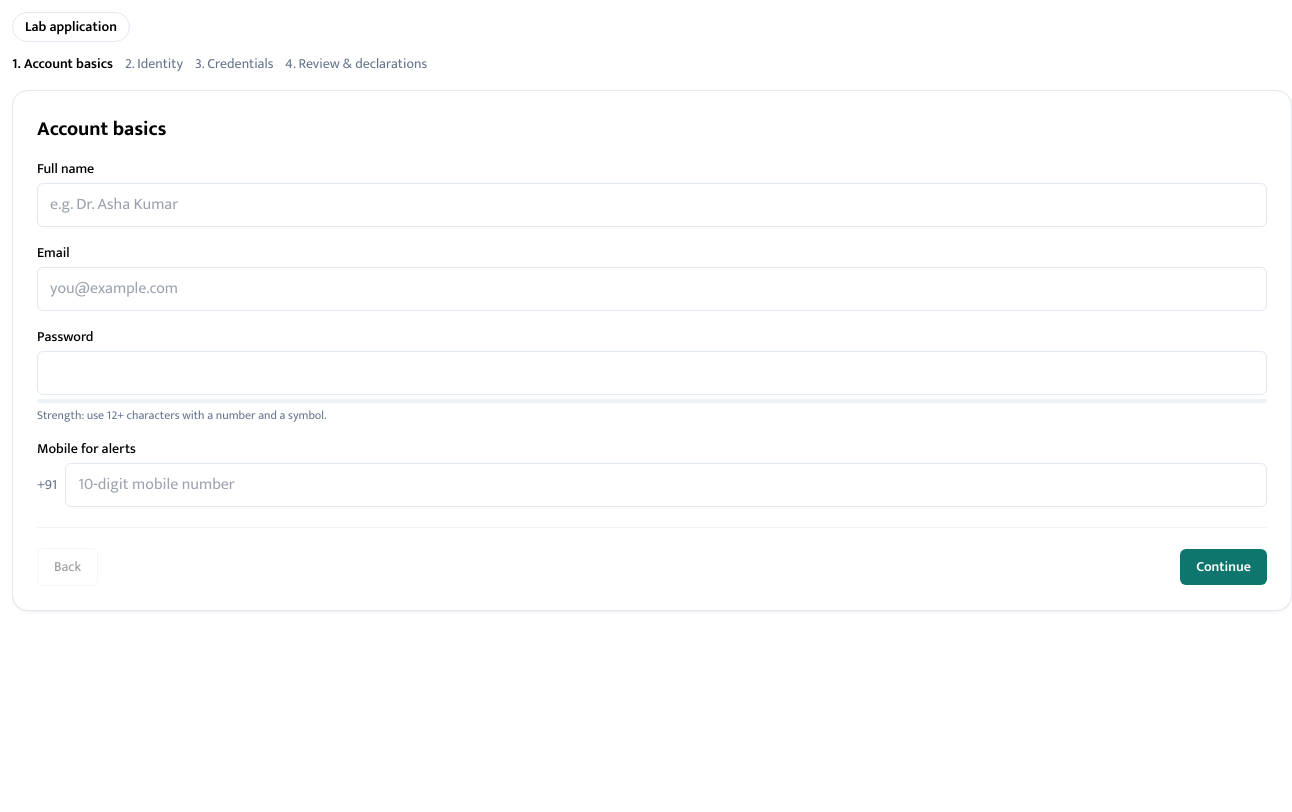
Test case: type preset carried from the CTA query param › pre-selects lab and shows business identity instead of doctor fields
The image size is (1292, 812).
In the field with test id "pr-fullname": (652, 205) [37, 183, 1267, 227], type "Dr. Asha Kumar"
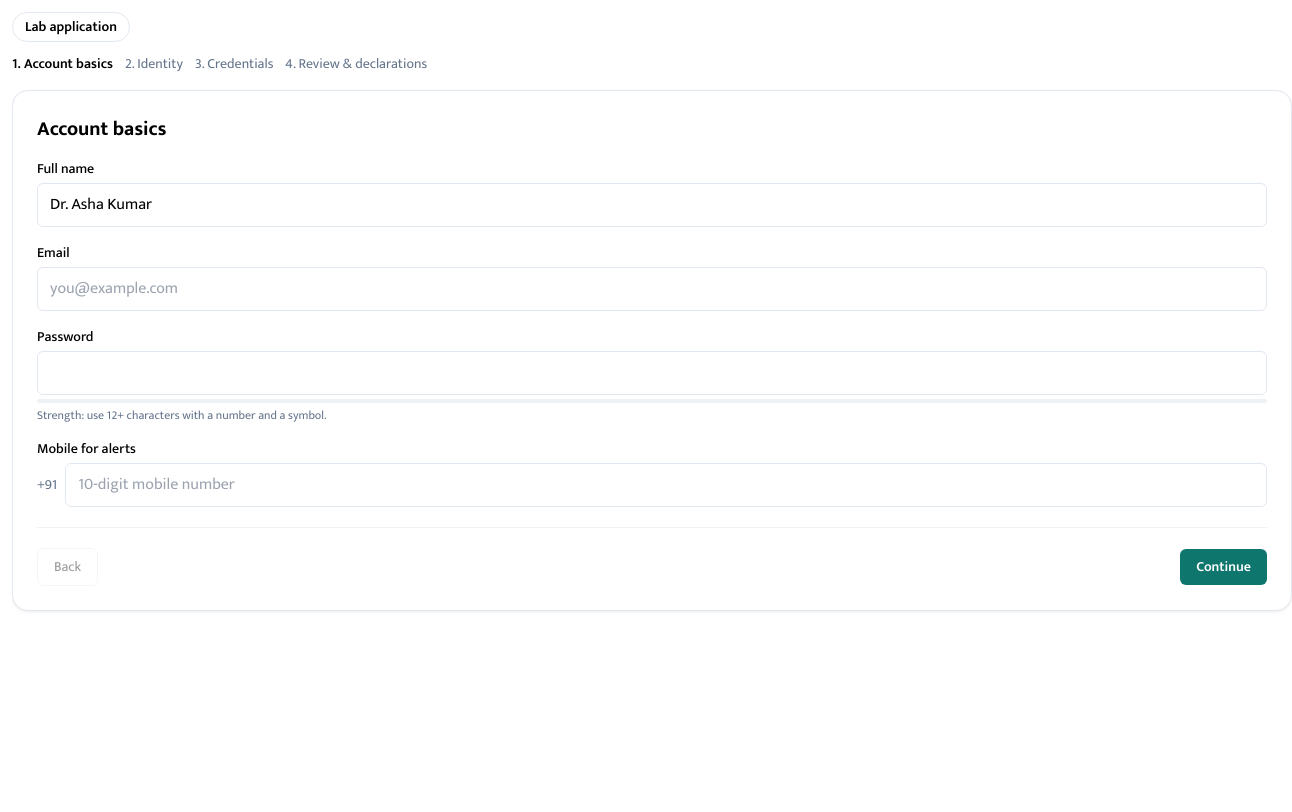
In the field with test id "pr-email": (652, 289) [37, 267, 1267, 311], type "asha@example.com"
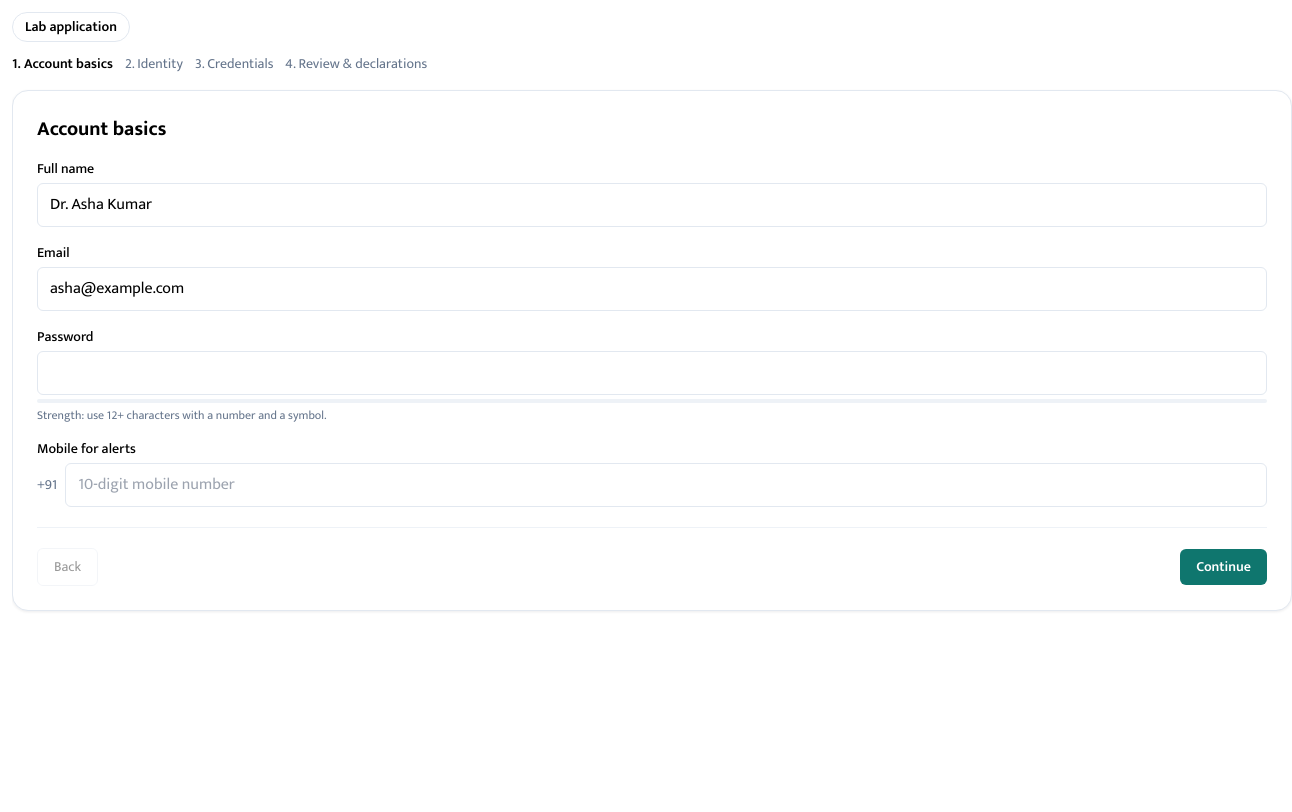
In the password field with test id "pr-password": (652, 373) [37, 351, 1267, 395], type "correct-horse-battery1!"
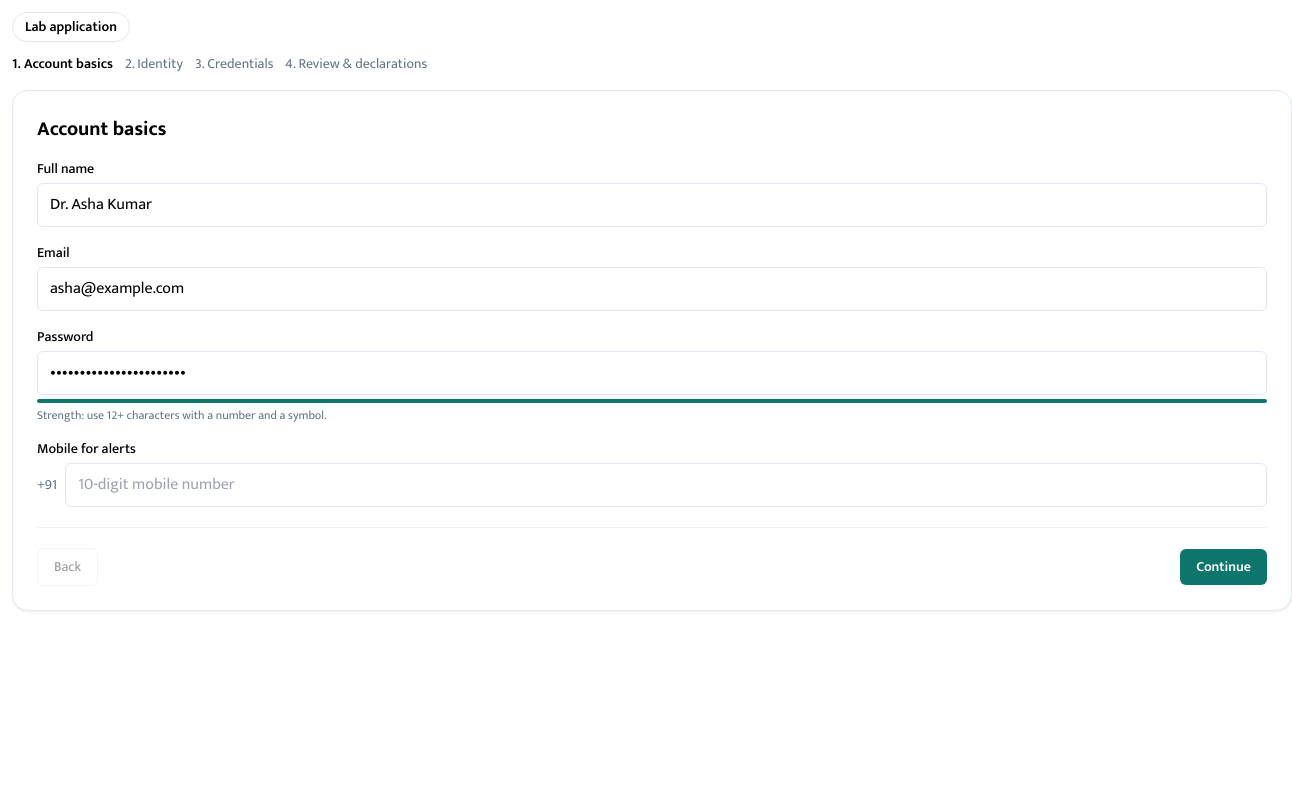
In the field with test id "pr-mobile": (666, 485) [65, 463, 1267, 507], type "9876543210"
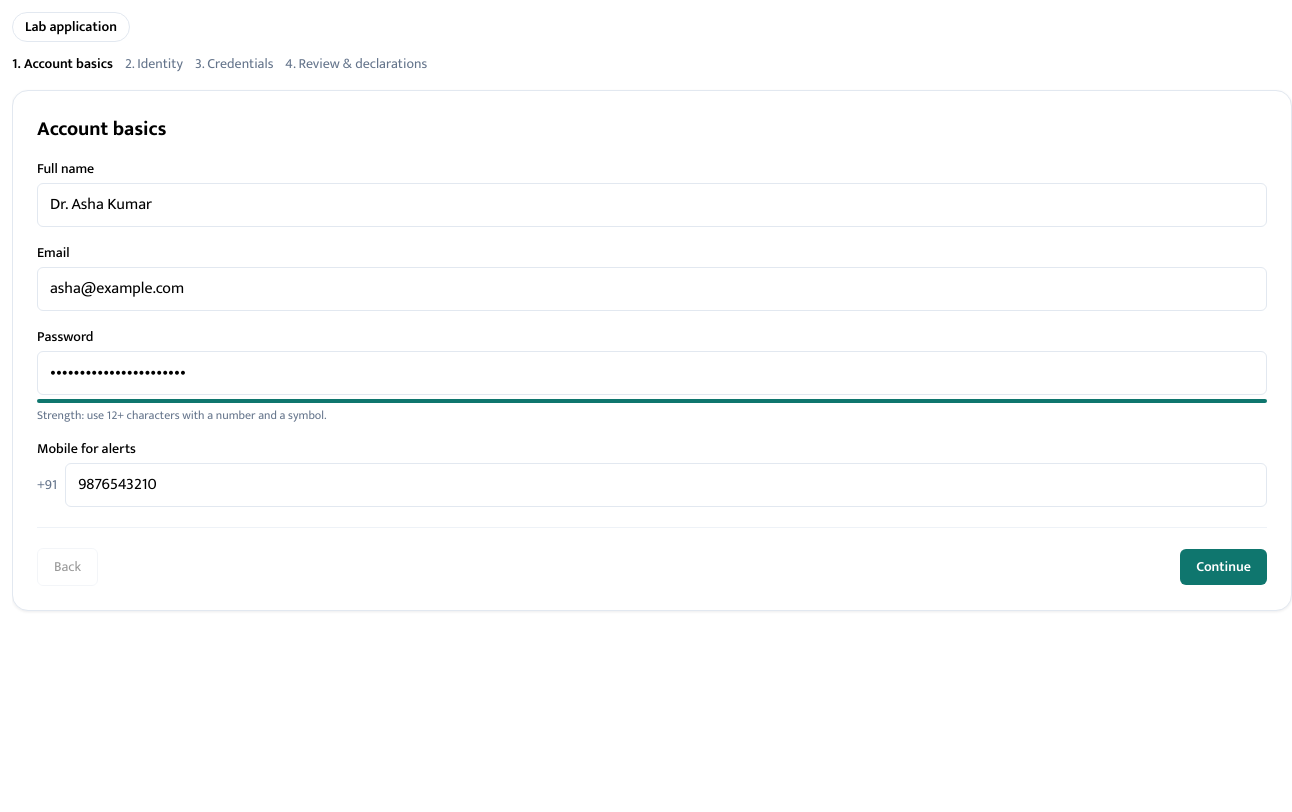
Click the button with test id "pr-next": click(1224, 567) [1180, 549, 1267, 585]
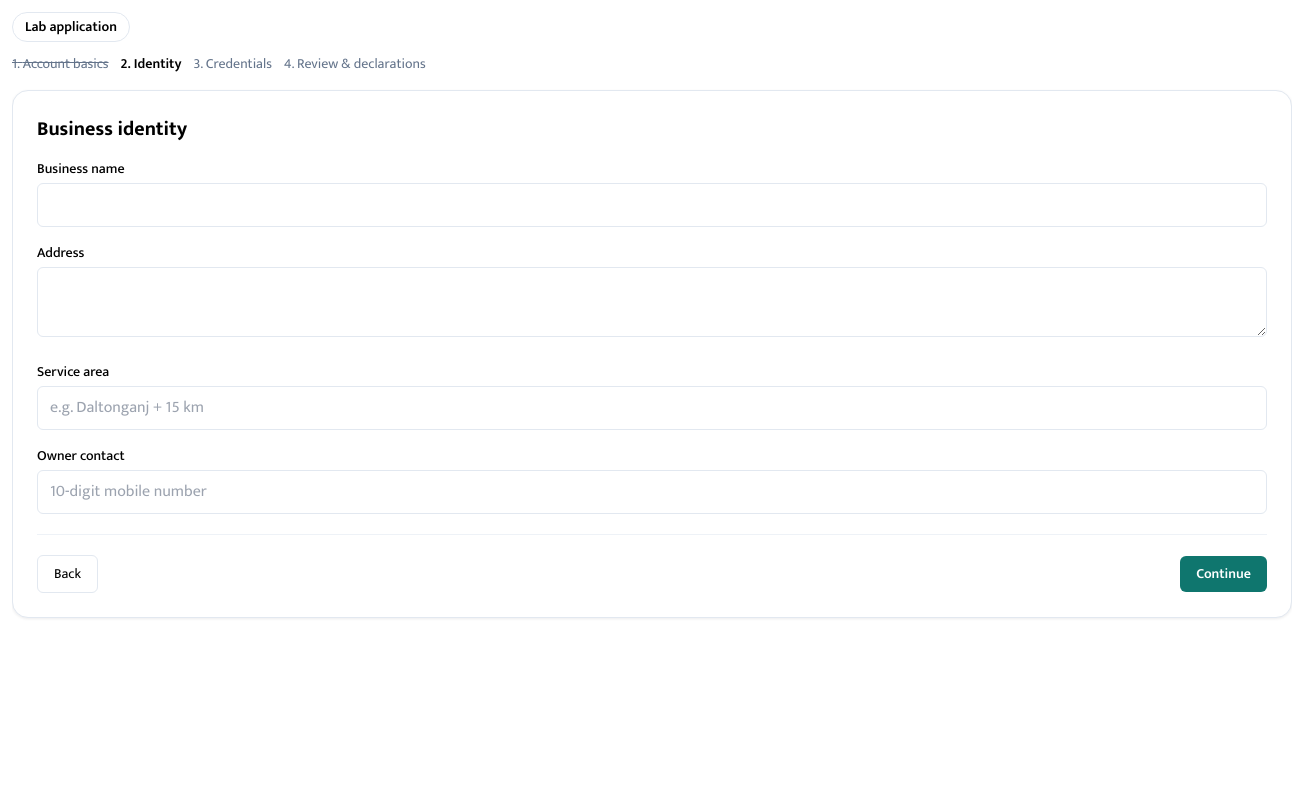
Expected: the text with test id "pr-type-badge" reads "Lab application", [25, 15, 117, 38]
Now the heading "Business identity" is shown, box [37, 112, 187, 146]
Now the field with test id "pr-businessname" is shown, box [37, 183, 1267, 227]
